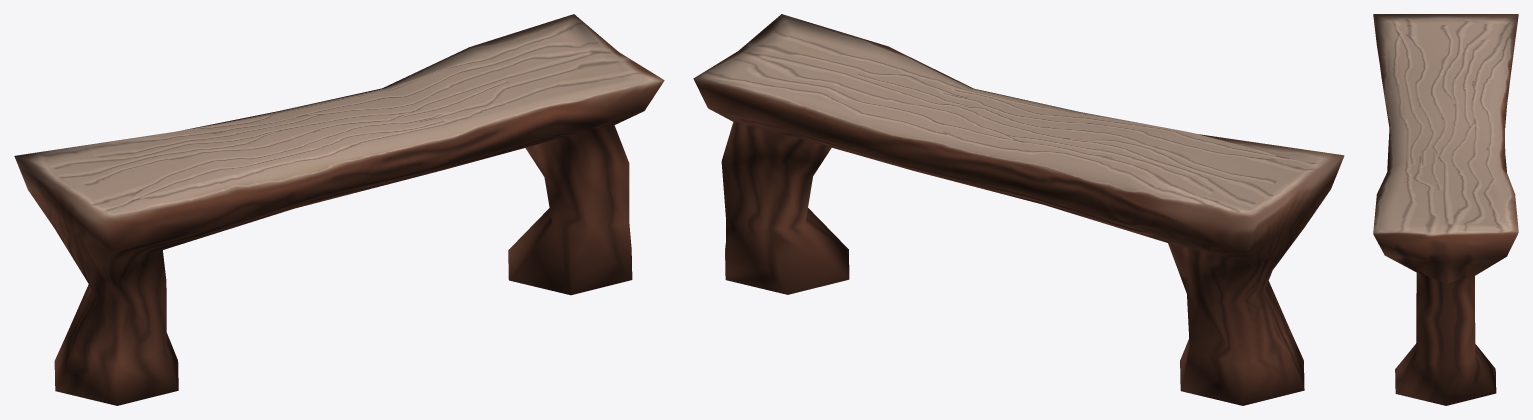
Rendered from Banco.fbx.
The picture shows the model from 3 angles, left to right: view 1: azimuth 30°, elevation 25°; view 2: azimuth 150°, elevation 25°; view 3: azimuth 270°, elevation 25°; orthographic projection. The views are drawn at different scales.
Visible parts, largest first — view 1: Cube; view 2: Cube; view 3: Cube.
Part boxes in pixels (box(x1,y1,x2,y2)): Cube: box(14, 14, 664, 405); Cube: box(693, 14, 1344, 405); Cube: box(1373, 14, 1518, 405).
Size of the model in its own units: 5.59 by 1.91 by 1.5.
